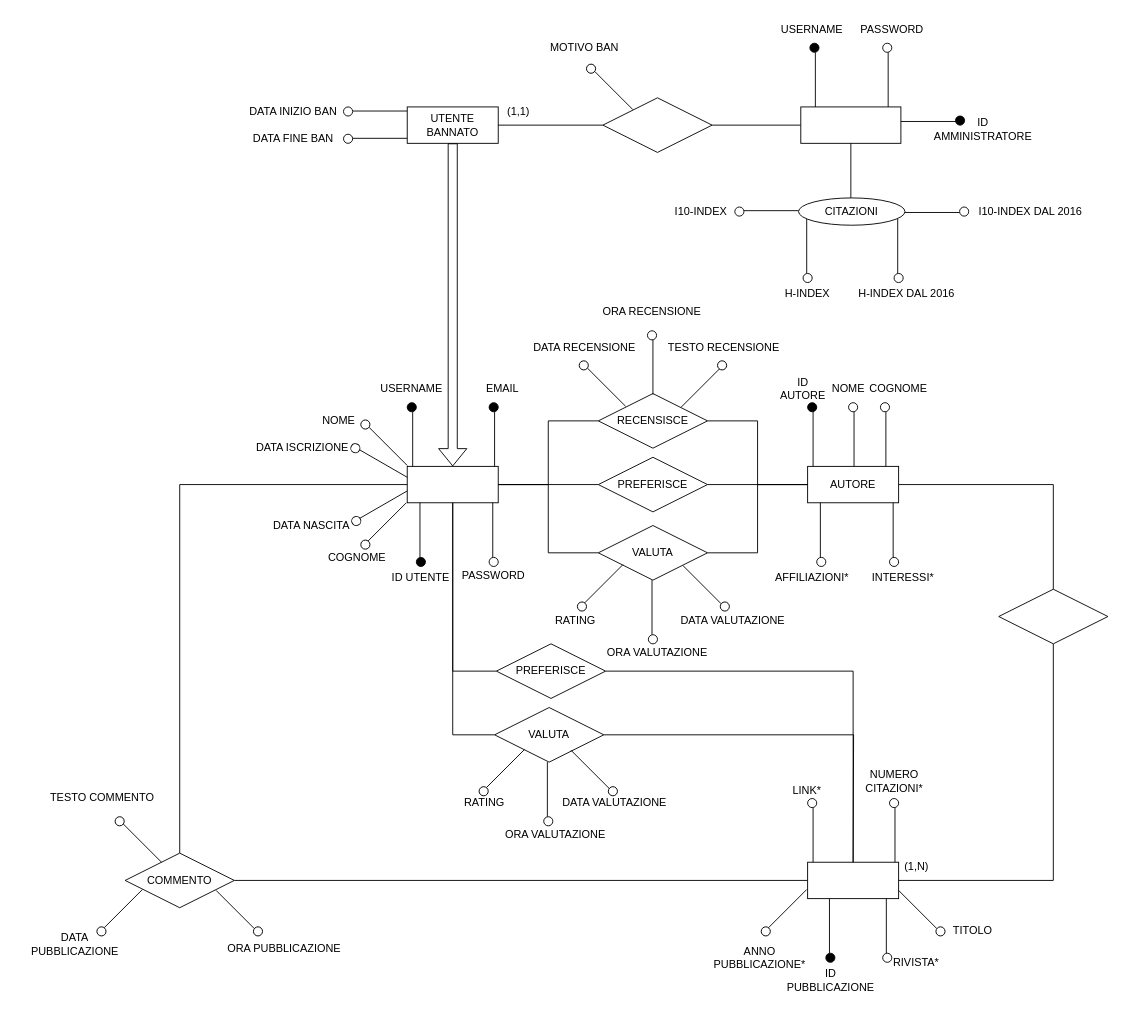
This 1124x1009 diagram has some shape labels left out. Here are the shapes that lost their labels. From the top down, the centre of each, then its label:
At pixel 657 124: "BANNA".
At pixel 850 124: "AMMINISTRATORE".
At pixel 452 484: "UTENTE".
At pixel 1053 616: "REDIGE".
At pixel 853 880: "PUBBLICAZIONE".
